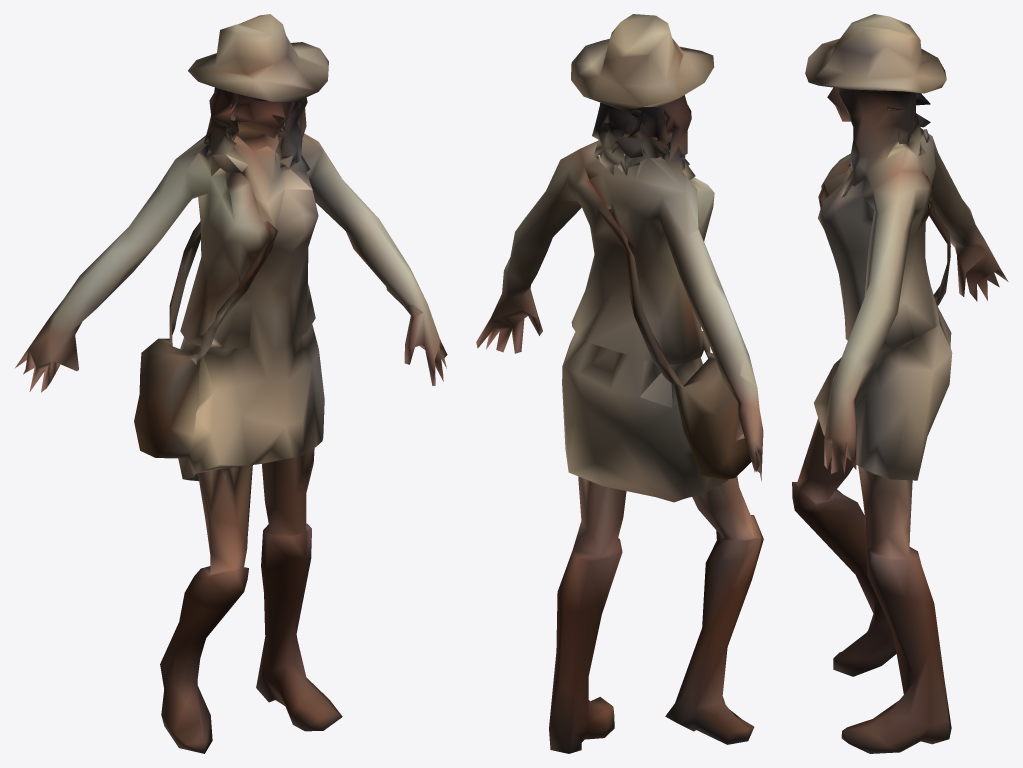
The model's file is crew-personC-far.glb.
The picture shows the model from 3 angles, left to right: view 1: azimuth 30°, elevation 25°; view 2: azimuth 150°, elevation 25°; view 3: azimuth 270°, elevation 25°; orthographic projection. The views are drawn at different scales.
Parts seen in each view (by area): view 1: char1; view 2: char1; view 3: char1.
Part boxes in pixels (x1=…): char1: x1=15, y1=14, x2=447, y2=753; char1: x1=476, y1=14, x2=763, y2=753; char1: x1=792, y1=14, x2=1008, y2=753.
Bounding box in the file's own units: 82.86 × 159 × 44.7.
